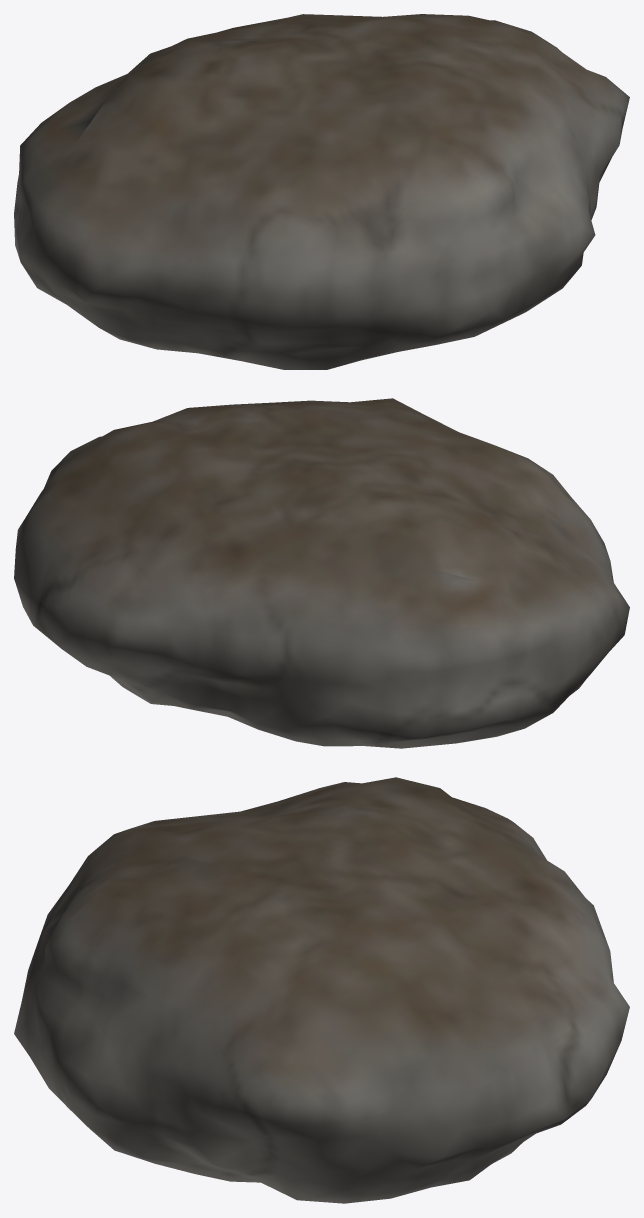
File: SM_rock_boulder_01.fbx
3 renders of one model, top to bottom at view 1: azimuth 30°, elevation 25°; view 2: azimuth 150°, elevation 25°; view 3: azimuth 270°, elevation 25°, orthographic. The views are drawn at different scales.
Visible parts, largest first — view 1: SM_rock_boulder_01; view 2: SM_rock_boulder_01; view 3: SM_rock_boulder_01.
Boxes of the visible parts, x1,y1,x2,y2 form: SM_rock_boulder_01: [14, 14, 629, 369]; SM_rock_boulder_01: [14, 398, 629, 748]; SM_rock_boulder_01: [14, 777, 629, 1203].
Bounding box in the file's own units: 2.5 × 0.9328 × 2.08.
